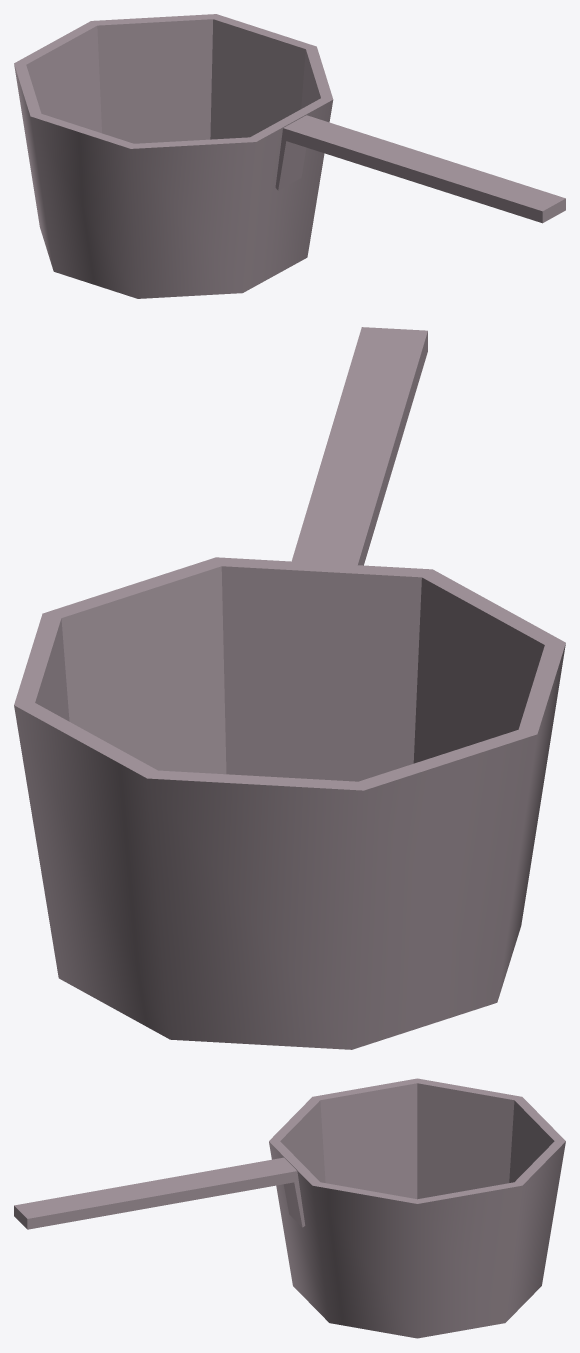
Rendered from SM_Pan_02.FBX.
3 views of the same model, one above another, from view 1: azimuth 30°, elevation 25°; view 2: azimuth 150°, elevation 25°; view 3: azimuth 270°, elevation 25° (orthographic). The views are drawn at different scales.
Visible parts, largest first — view 1: SM_Pan_02; view 2: SM_Pan_02; view 3: SM_Pan_02.
Boxes of the visible parts, box(x1,y1,x2,y2) form: SM_Pan_02: box(14, 14, 565, 298); SM_Pan_02: box(14, 327, 565, 1049); SM_Pan_02: box(14, 1078, 565, 1338).
Size of the model in its own units: 27.5 by 45.91 by 13.28.
